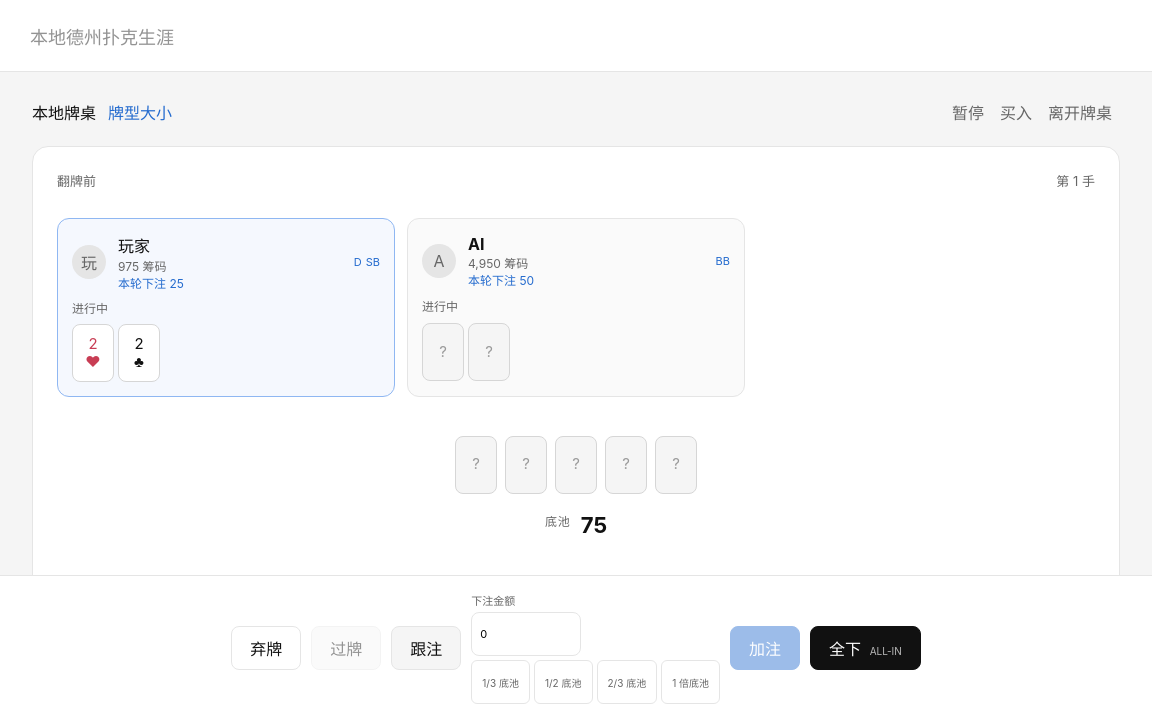
Test: cash buy-in table UI › opens target options, validates custom targets and shows pending status
Click the button with test id "cash-buy-in" at {"x": 1016, "y": 112}, box [992,92,1040,132]
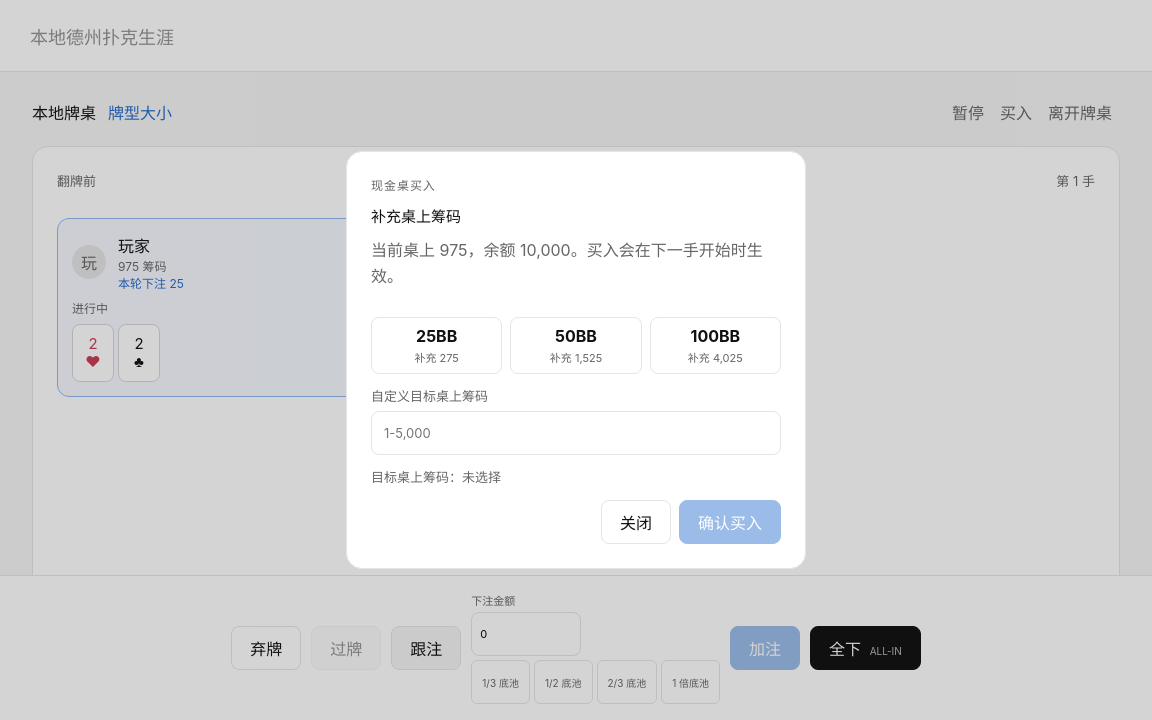
expect the dialog shows "25BB": met, box [371,317,502,374]
expect the dialog shows "50BB": met, box [510,317,642,374]
expect the dialog shows "100BB": met, box [650,317,781,374]
Type "4000" into the field named "customTargetStack" at {"x": 576, "y": 433}, box [371,411,781,455]
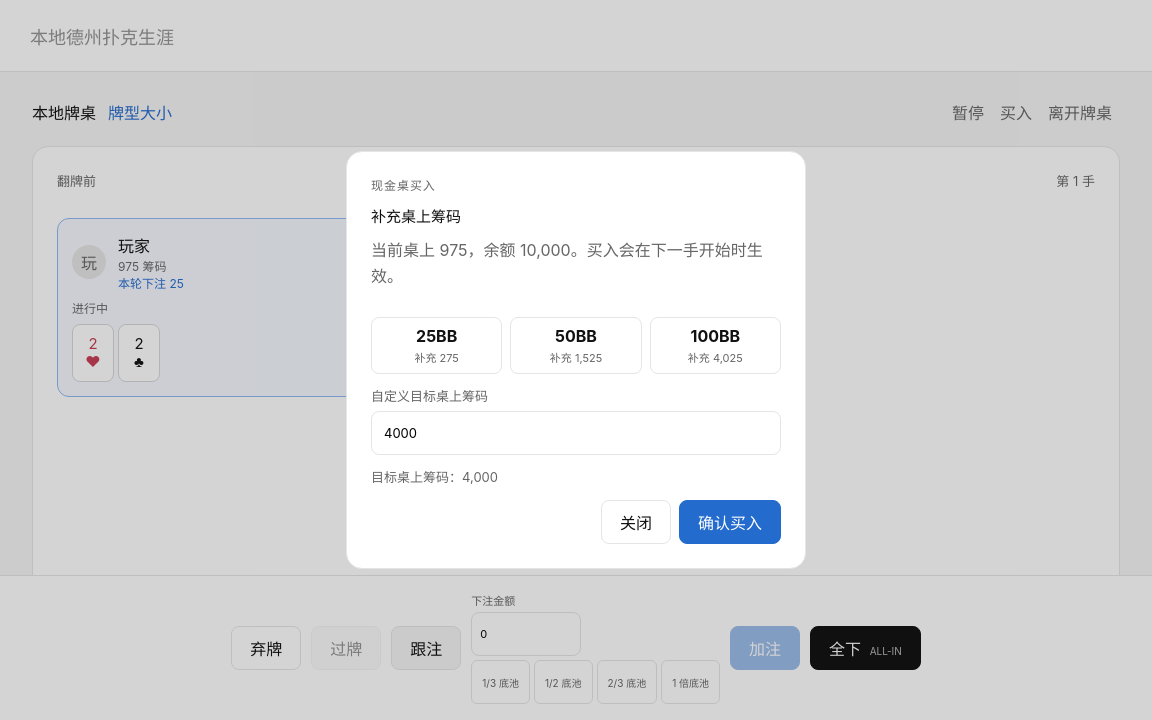
expect the button with test id "cash-buy-in-confirm" is enabled: met
Click the button with test id "cash-buy-in-confirm" at {"x": 730, "y": 522}, box [679,500,781,544]
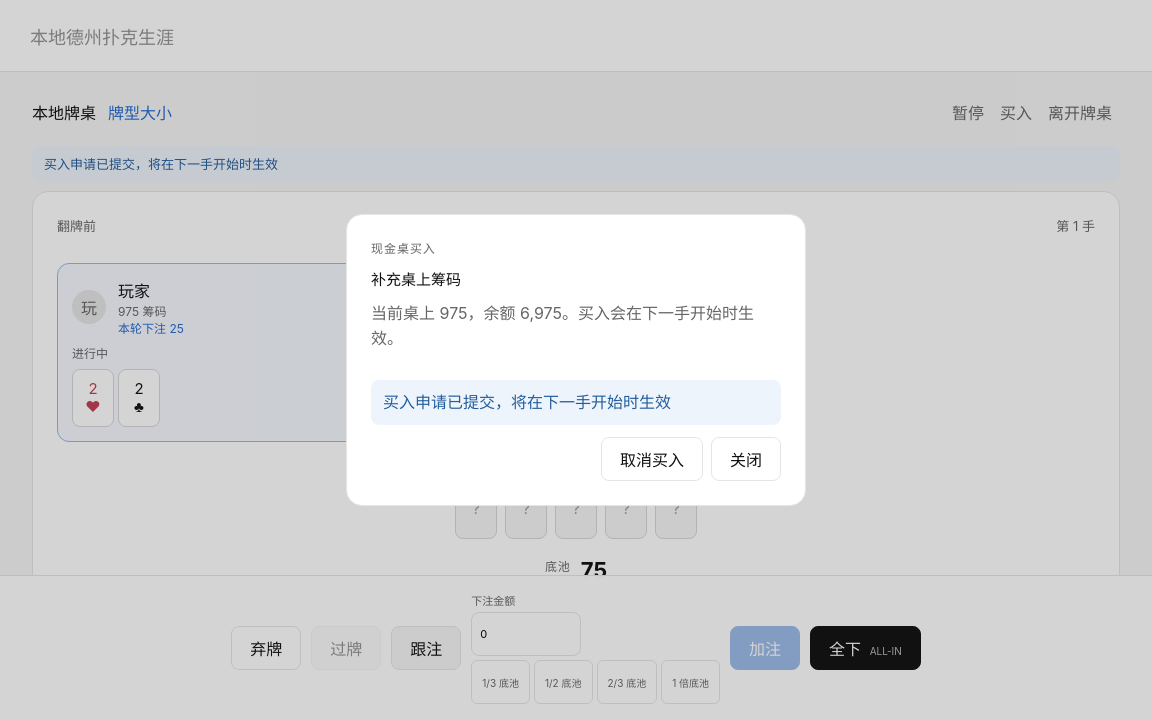
expect the text "买入申请已提交" is shown: met, box [44,156,278,172]
